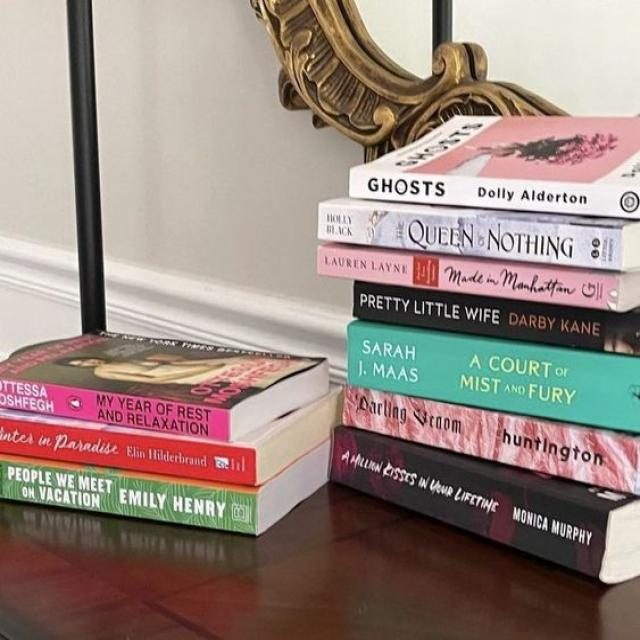book: (329, 429, 609, 576), (344, 386, 638, 496), (348, 323, 639, 431), (355, 278, 640, 355), (321, 199, 620, 271), (318, 248, 622, 309), (2, 460, 256, 531), (0, 417, 254, 486), (0, 378, 229, 442), (352, 171, 639, 215)
